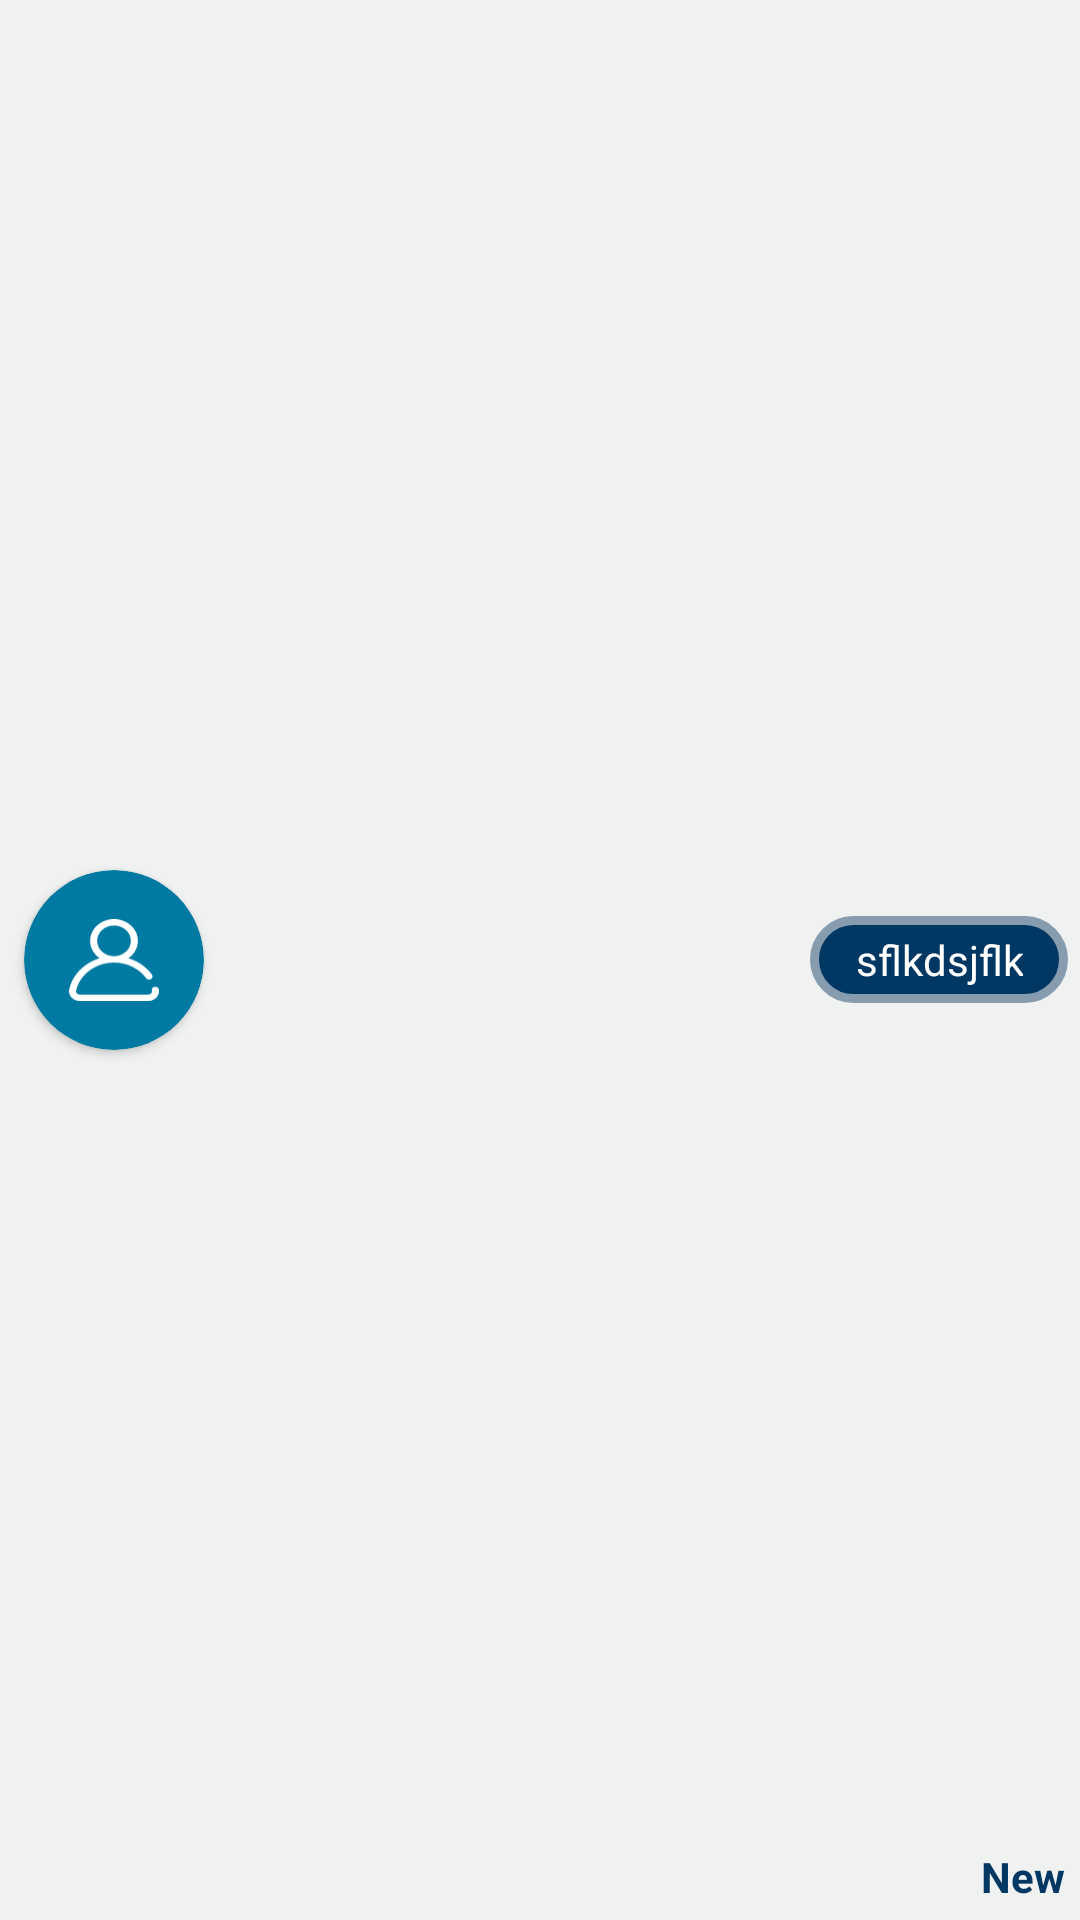

Locate icon controls on the screen. Image size 1080px×1920px, boxes as box=[x1, y1, x2, y2].
user: box=[69, 919, 159, 1001]
